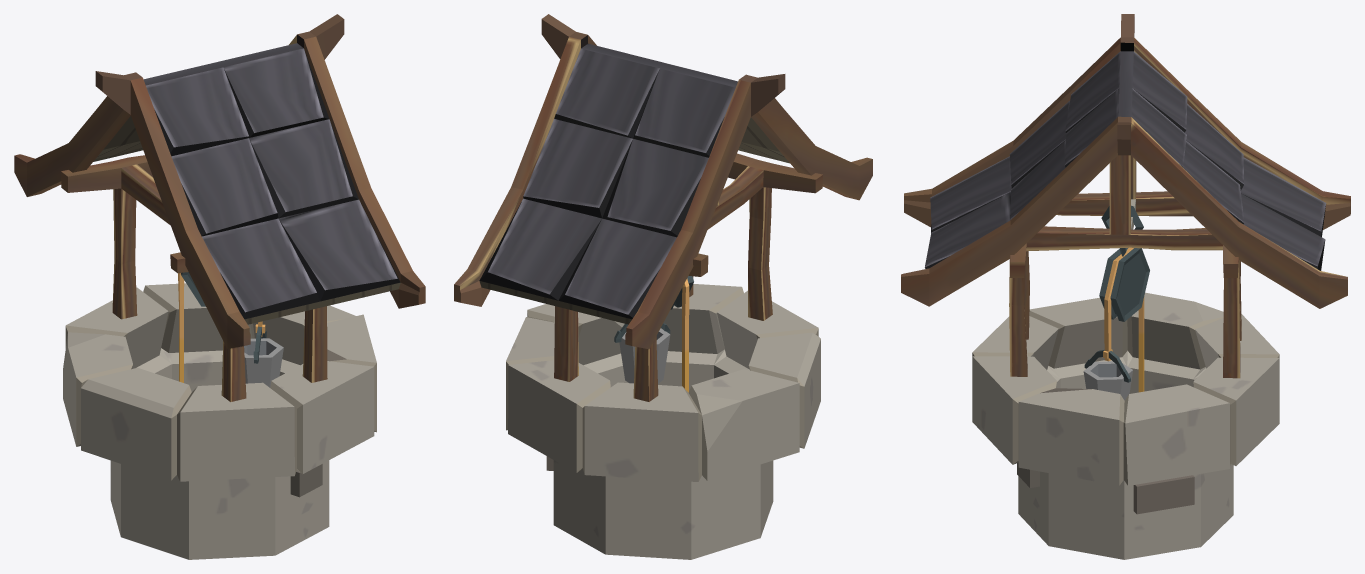
File: Well.fbx
The picture shows the model from 3 angles, left to right: view 1: azimuth 30°, elevation 25°; view 2: azimuth 150°, elevation 25°; view 3: azimuth 270°, elevation 25°; orthographic projection. The views are drawn at different scales.
Visible parts, largest first — view 1: Well; view 2: Well; view 3: Well.
Boxes of the visible parts, left/top/right/bottom form: Well: left=14, top=14, right=425, bottom=559; Well: left=454, top=14, right=872, bottom=559; Well: left=901, top=14, right=1350, bottom=559.
Bounding box in the file's own units: 366 × 584 × 535.
